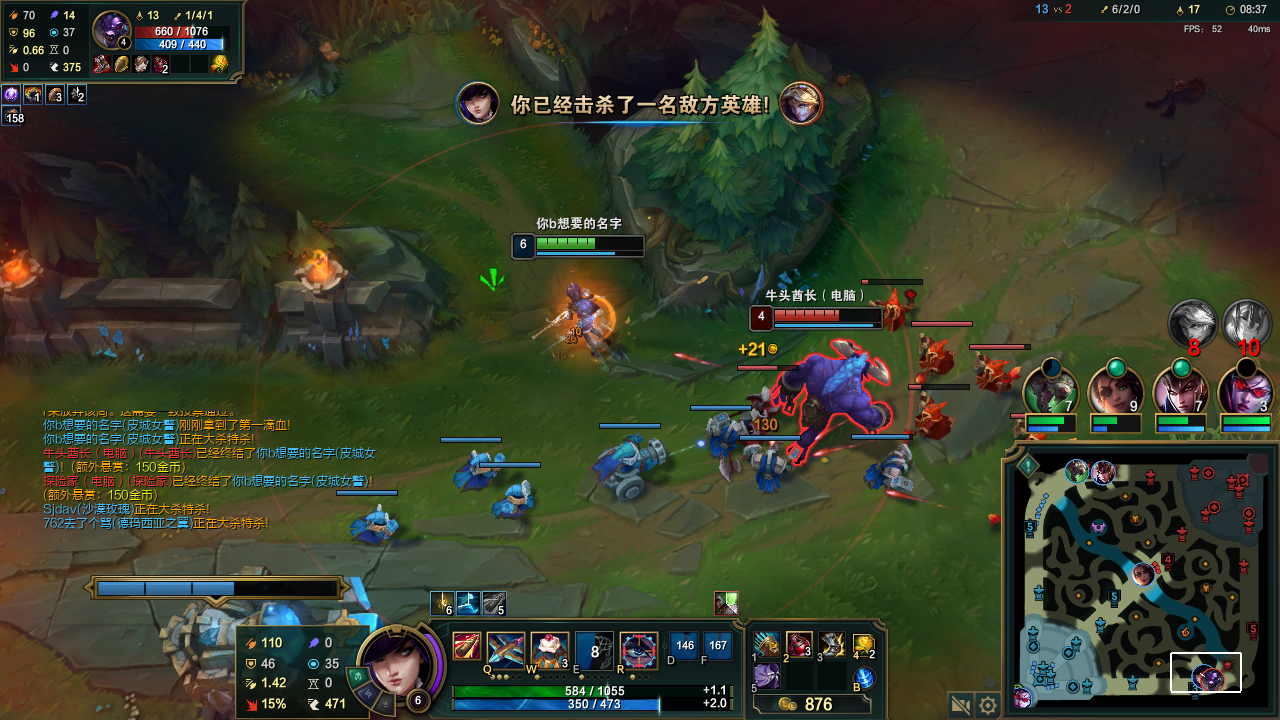DFXB: (972, 351, 1015, 399), (917, 338, 956, 375), (886, 291, 913, 337), (921, 399, 947, 440), (745, 385, 774, 416)
DFYX: (766, 306, 844, 325)
WFXB: (602, 441, 656, 487), (348, 506, 401, 542), (867, 444, 909, 487), (453, 450, 500, 485), (745, 443, 784, 485), (700, 420, 746, 454), (494, 482, 536, 519)
